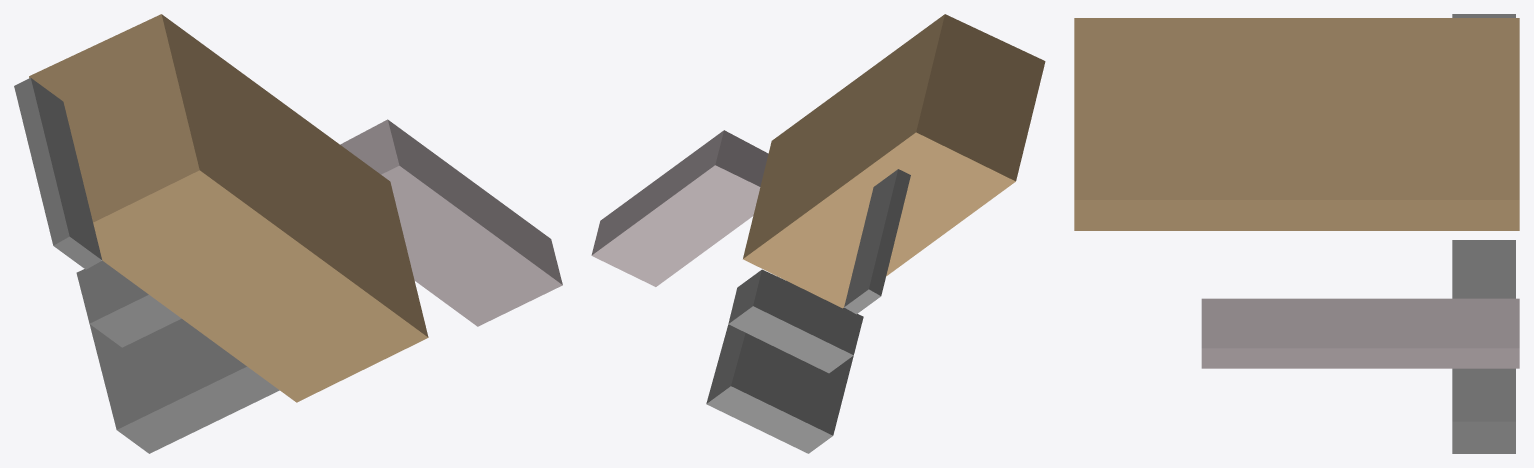
The picture shows the model from 3 angles, left to right: view 1: azimuth 30°, elevation 25°; view 2: azimuth 150°, elevation 25°; view 3: azimuth 270°, elevation 25°; orthographic projection. The views are drawn at different scales.
Visible parts, largest first — view 1: 0_2_3_2_1_1_3_1_1_3; view 2: 0_2_3_2_1_1_3_1_1_3; view 3: 0_2_3_2_1_1_3_1_1_3.
Part boxes in pixels (left/top/right/bottom): 0_2_3_2_1_1_3_1_1_3: left=14, top=14, right=562, bottom=453; 0_2_3_2_1_1_3_1_1_3: left=591, top=14, right=1045, bottom=453; 0_2_3_2_1_1_3_1_1_3: left=1074, top=14, right=1519, bottom=453.
Size of the model in its own units: 20.52 by 20.42 by 21.
